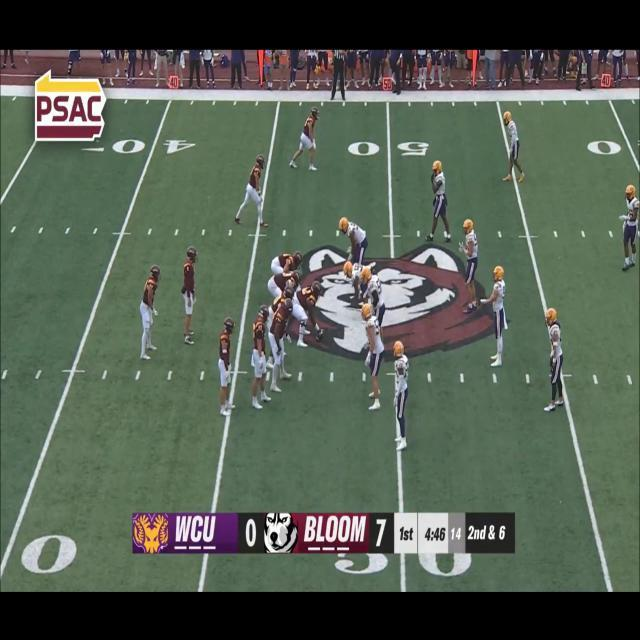football: (312, 326, 326, 344)
